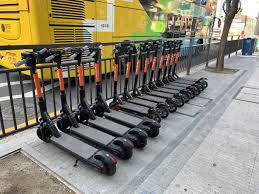kick_handler: (14, 48, 46, 66), (47, 46, 70, 61), (71, 46, 89, 56)
kick_neck: (57, 66, 66, 108), (77, 65, 85, 102), (94, 62, 102, 99), (113, 60, 118, 94)
kick_wheel: (94, 152, 115, 175), (116, 139, 132, 159), (37, 124, 53, 143), (130, 129, 146, 148), (144, 119, 159, 137), (56, 117, 72, 132), (158, 106, 169, 118), (109, 101, 120, 110), (167, 101, 176, 112), (176, 97, 183, 106)
